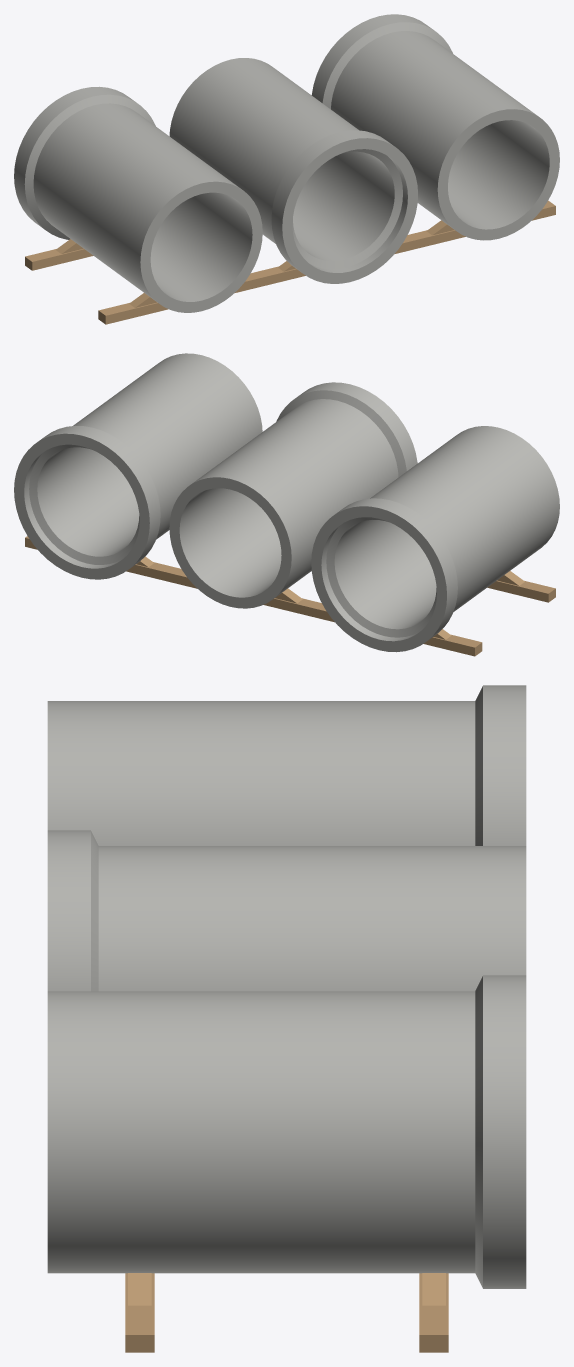
File: concrete_pipes.glb
The picture shows the model from 3 angles, top to bottom: view 1: azimuth 30°, elevation 25°; view 2: azimuth 150°, elevation 25°; view 3: azimuth 270°, elevation 25°; orthographic projection. The views are drawn at different scales.
Visible parts, largest first — view 1: concrete_pipe_1, concrete_pipe_2, concrete_pipe_3, bearers; view 2: concrete_pipe_1, concrete_pipe_3, concrete_pipe_2, bearers; view 3: concrete_pipe_3, concrete_pipe_2, concrete_pipe_1, bearers.
Part boxes in pixels (x1=…): concrete_pipe_1: x1=14, y1=86, x2=262, y2=312; concrete_pipe_2: x1=169, y1=58, x2=417, y2=283; concrete_pipe_3: x1=311, y1=14, x2=559, y2=240; bearers: x1=25, y1=200, x2=555, y2=324; concrete_pipe_1: x1=311, y1=426, x2=559, y2=652; concrete_pipe_3: x1=14, y1=353, x2=262, y2=579; concrete_pipe_2: x1=169, y1=382, x2=417, y2=608; bearers: x1=25, y1=536, x2=555, y2=656; concrete_pipe_3: x1=47, y1=975, x2=526, y2=1305; concrete_pipe_2: x1=47, y1=830, x2=526, y2=991; concrete_pipe_1: x1=47, y1=685, x2=526, y2=845; bearers: x1=125, y1=1273, x2=448, y2=1352.
Size of the model in its own units: 5.3 by 1.62 by 2.44.
Materials: 2 (2 with a texture image).
